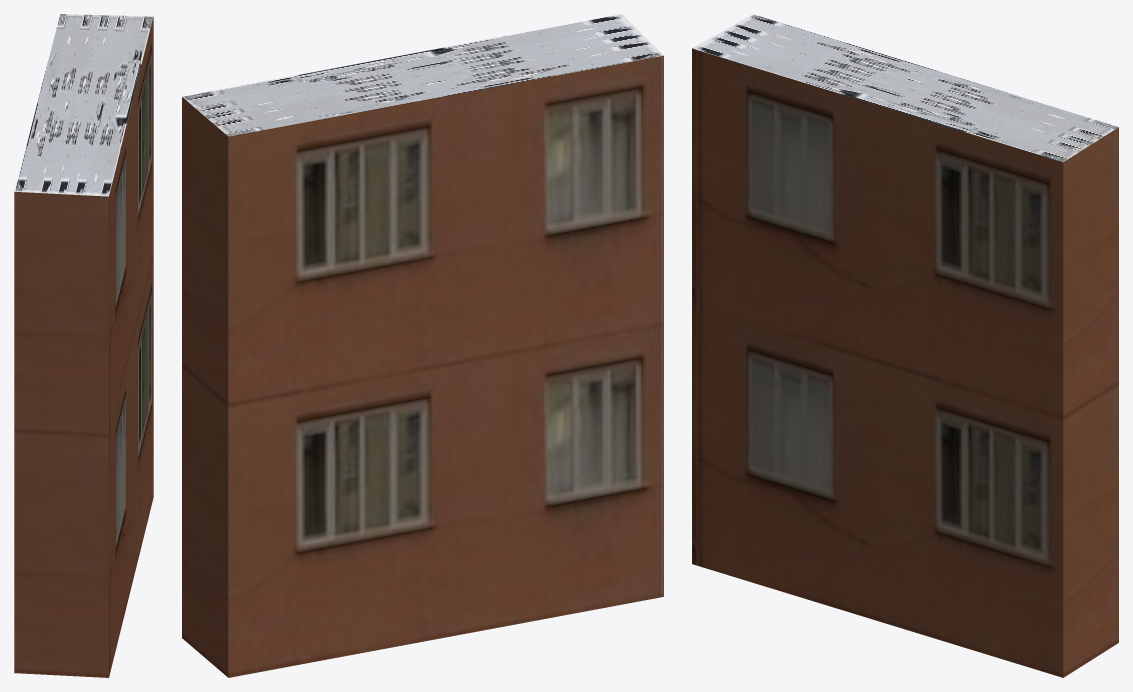
The model's file is ResTex__3687.fbx.
3 views of the same model, side by side, from view 1: azimuth 30°, elevation 25°; view 2: azimuth 150°, elevation 25°; view 3: azimuth 270°, elevation 25° (orthographic). The views are drawn at different scales.
Parts seen in each view (by area): view 1: CityEngineMaterial_20_m, CityEngineMaterial_8_m; view 2: CityEngineMaterial_20_m, CityEngineMaterial_8_m; view 3: CityEngineMaterial_20_m, CityEngineMaterial_8_m.
Part boxes in pixels (x1,y1,x2,y2): CityEngineMaterial_20_m: (14, 17, 153, 677); CityEngineMaterial_8_m: (14, 14, 153, 196); CityEngineMaterial_20_m: (182, 55, 663, 677); CityEngineMaterial_8_m: (182, 14, 663, 136); CityEngineMaterial_20_m: (692, 48, 1118, 677); CityEngineMaterial_8_m: (692, 14, 1118, 162).
Bounding box in the file's own units: 3.7 × 6 × 4.5.
2 materials, 2 textured.
